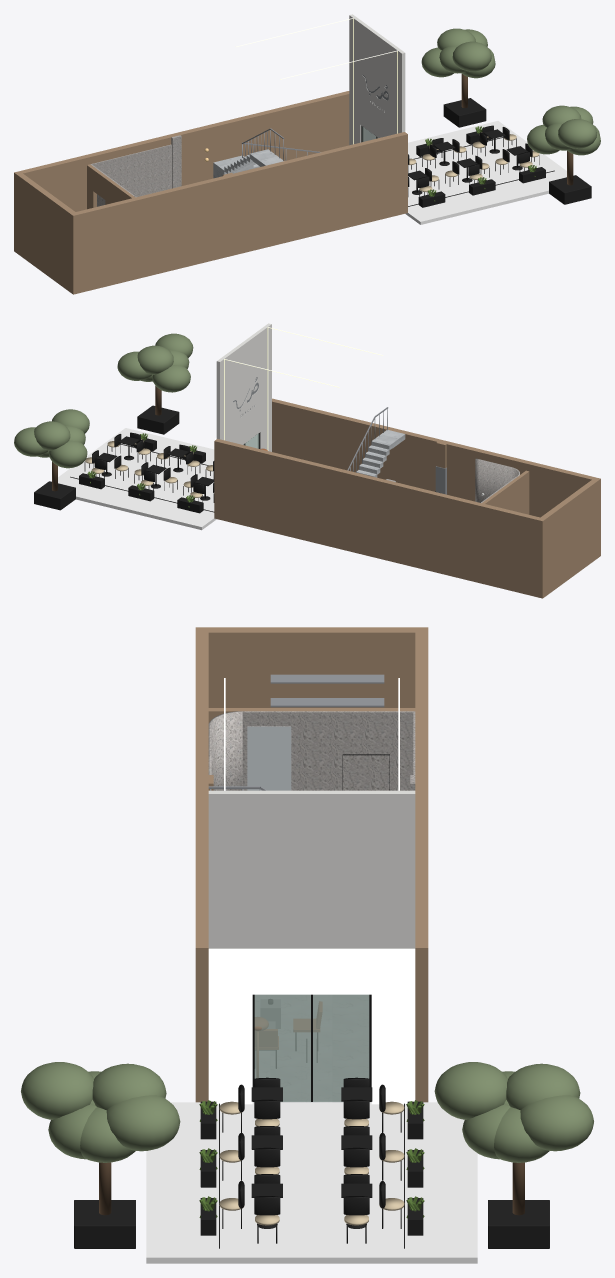
The model's file is walk-ground.e7cc3acf51.glb.
The picture shows the model from 3 angles, top to bottom: view 1: azimuth 30°, elevation 25°; view 2: azimuth 150°, elevation 25°; view 3: azimuth 270°, elevation 25°; orthographic projection. The views are drawn at different scales.
Parts seen in each view (by area): view 1: wall_side_b, wall_side_t, out_floor, wall_back, fw_top, zclad, fw_right, fw_left, canopy.012, canopy.005, tree_box.001, tree_box (+8 smaller); view 2: wall_side_t, wall_side_b, out_floor, wall_back, fw_top, fw_left, fw_right, zebra_curve, part, tree_box, tree_box.001, canopy.009 (+7 smaller); view 3: out_floor, fw_top, wall_back, door_glass, zclad_part, floor_marble, fw_left, fw_right, neon_left, neon_right, wall_side_b, wall_side_t (+18 smaller).
Boxes of the visible parts, x1,y1,x2,y2 form: wall_side_b: (76, 132, 407, 293); wall_side_t: (20, 91, 349, 211); out_floor: (405, 121, 566, 224); wall_back: (14, 171, 78, 294); fw_top: (360, 22, 393, 137); zclad: (91, 144, 171, 196); fw_right: (349, 14, 363, 145); fw_left: (390, 45, 405, 134); canopy.012: (452, 41, 491, 71); canopy.005: (558, 119, 596, 148); tree_box.001: (443, 98, 486, 127); tree_box: (549, 175, 591, 204); wall_side_t: (214, 439, 539, 596); wall_side_b: (272, 398, 594, 517); out_floor: (58, 428, 216, 530); wall_back: (537, 477, 600, 598); fw_top: (228, 331, 260, 444); fw_left: (258, 323, 271, 451); fw_right: (216, 353, 230, 441); zebra_curve: (475, 458, 519, 502); part: (493, 470, 529, 514); tree_box: (137, 405, 179, 434); tree_box.001: (34, 481, 75, 510); canopy.009: (34, 421, 70, 450); out_floor: (146, 1102, 477, 1263); fw_top: (252, 790, 371, 948); wall_back: (195, 627, 428, 707); door_glass: (254, 994, 369, 1101); zclad_part: (242, 711, 413, 790); floor_marble: (253, 995, 371, 1102); fw_left: (208, 790, 252, 948); fw_right: (371, 790, 415, 948); neon_left: (208, 948, 252, 1104); neon_right: (371, 948, 415, 1104); wall_side_b: (195, 632, 208, 1102); wall_side_t: (415, 632, 428, 1102).
Bounding box in the file's own units: 22.08 × 6.72 × 11.08.
43 materials, 3 textured.
